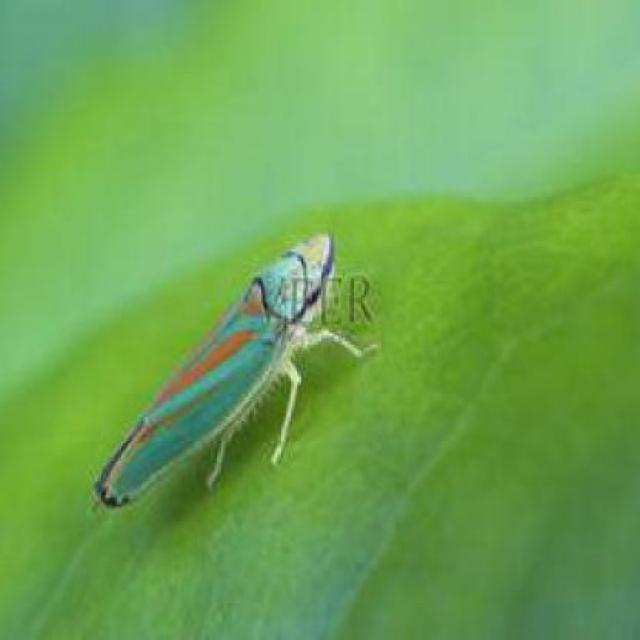green-leafhopper: (92, 220, 343, 517)
